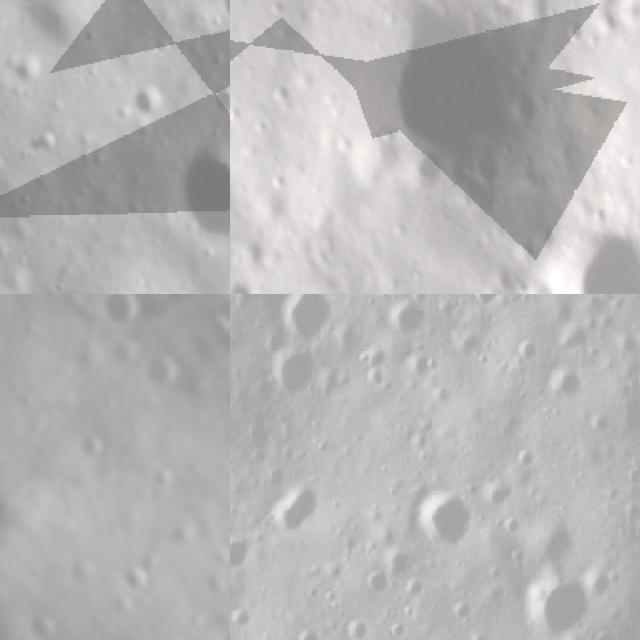crater: (358, 0, 555, 200), (542, 199, 640, 294), (175, 126, 230, 246), (0, 486, 36, 633), (102, 544, 172, 616), (129, 339, 197, 406), (532, 577, 594, 635), (86, 294, 155, 342), (413, 483, 464, 547), (276, 294, 339, 335), (272, 352, 323, 389), (128, 79, 171, 122), (274, 478, 310, 529), (380, 305, 429, 339), (550, 366, 582, 403), (230, 271, 272, 294), (0, 226, 16, 271), (0, 141, 15, 181), (518, 334, 539, 360), (230, 535, 243, 568), (463, 294, 500, 305), (217, 0, 230, 23)
